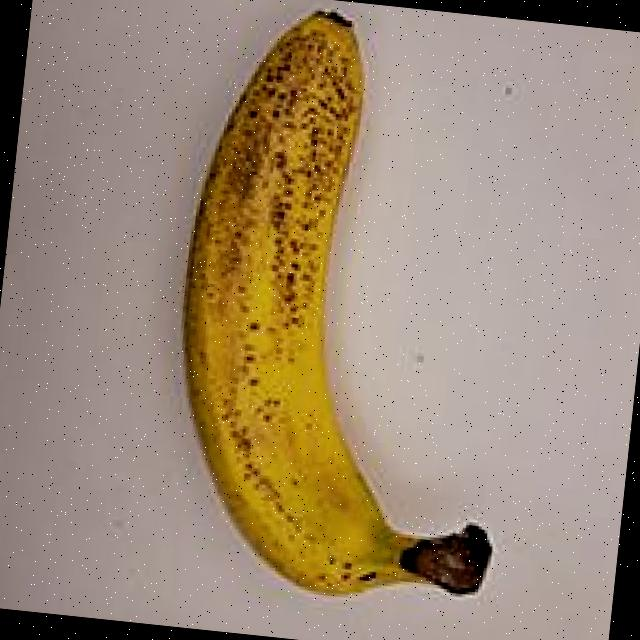Overripe: (134, 0, 575, 630)
